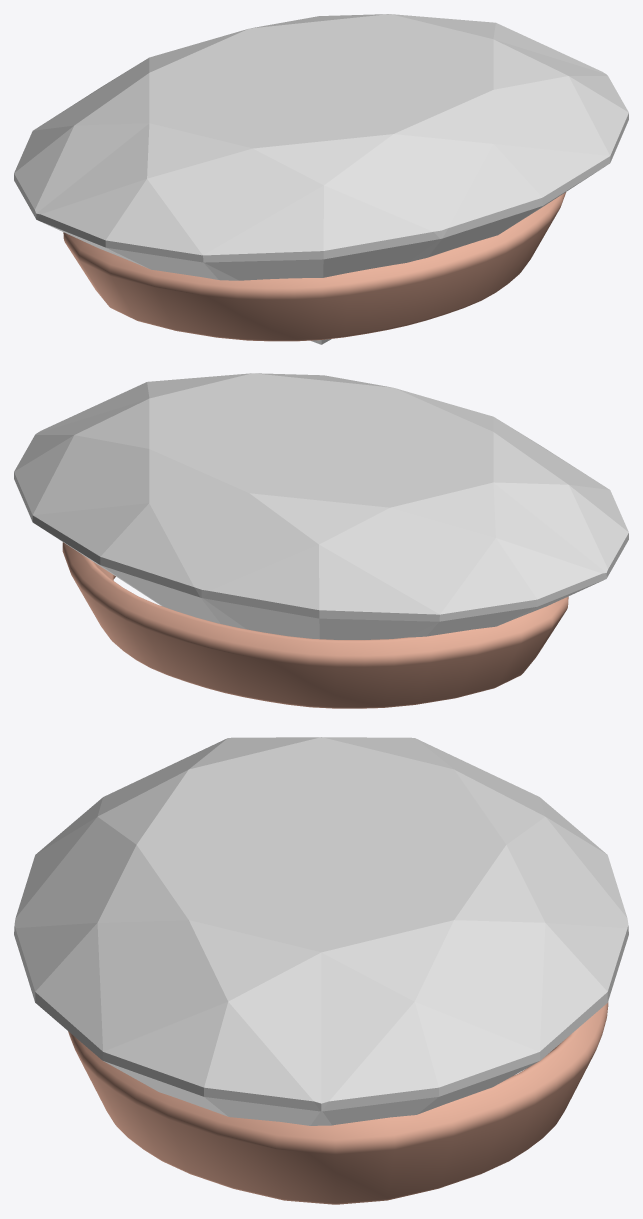
Rendered from oval.glb.
3 renders of one model, top to bottom at view 1: azimuth 30°, elevation 25°; view 2: azimuth 150°, elevation 25°; view 3: azimuth 270°, elevation 25°, orthographic. The views are drawn at different scales.
Parts seen in each view (by area): view 1: Diamond_Oval, Marquise.002; view 2: Diamond_Oval, Marquise.002; view 3: Diamond_Oval, Marquise.002.
Part boxes in pixels (x1,y1,x2,y2): Diamond_Oval: [14, 14, 628, 344]; Marquise.002: [63, 192, 566, 341]; Diamond_Oval: [14, 373, 628, 639]; Marquise.002: [62, 542, 568, 708]; Diamond_Oval: [14, 737, 628, 1125]; Marquise.002: [68, 1002, 608, 1204].
Bounding box in the file's own units: 1.31 × 0.5774 × 0.9523.
